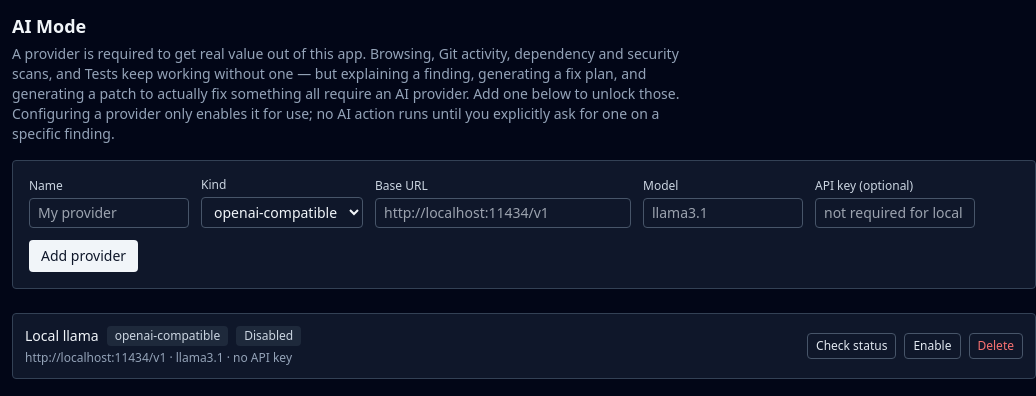
AiModePage › checks status and shows the resulting badge
expect the text "Local llama" is shown: met, box [25,326,99,346]
What coordinates should you click on to do the following:
click the button "Check status"
I would click on:
 (852, 346)
Its box is [807,333,896,359].
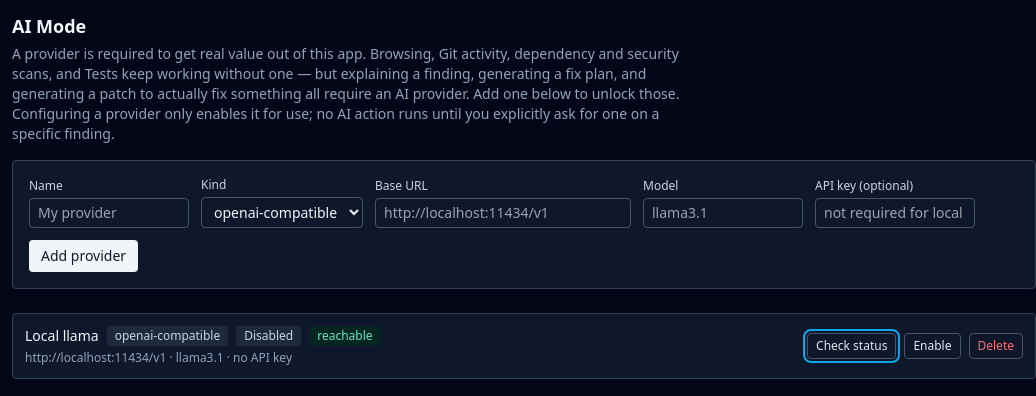
expect the text "reachable" is shown: met, box [309,326,381,346]
